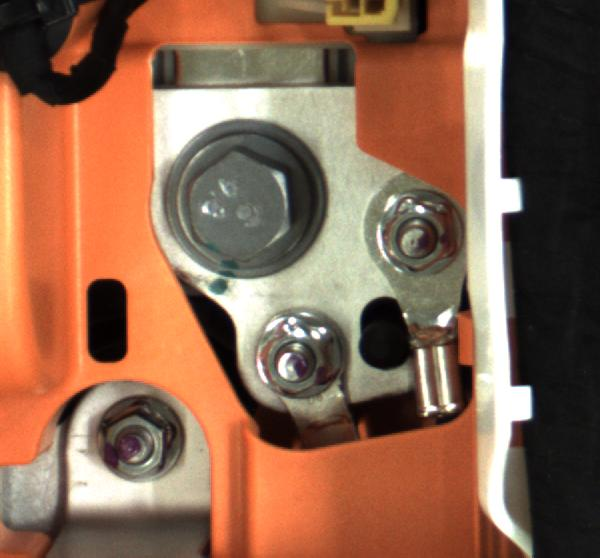nut_b: (159, 111, 327, 278)
screw_s: (255, 311, 362, 412), (93, 396, 192, 489), (380, 191, 454, 282)
